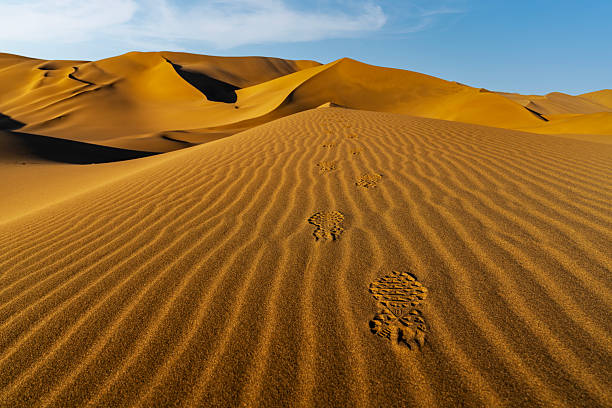human_foot_print: (369, 271, 426, 347), (308, 211, 343, 239), (355, 173, 381, 187), (317, 161, 336, 172), (321, 143, 335, 147), (351, 149, 360, 155), (346, 134, 358, 138)
